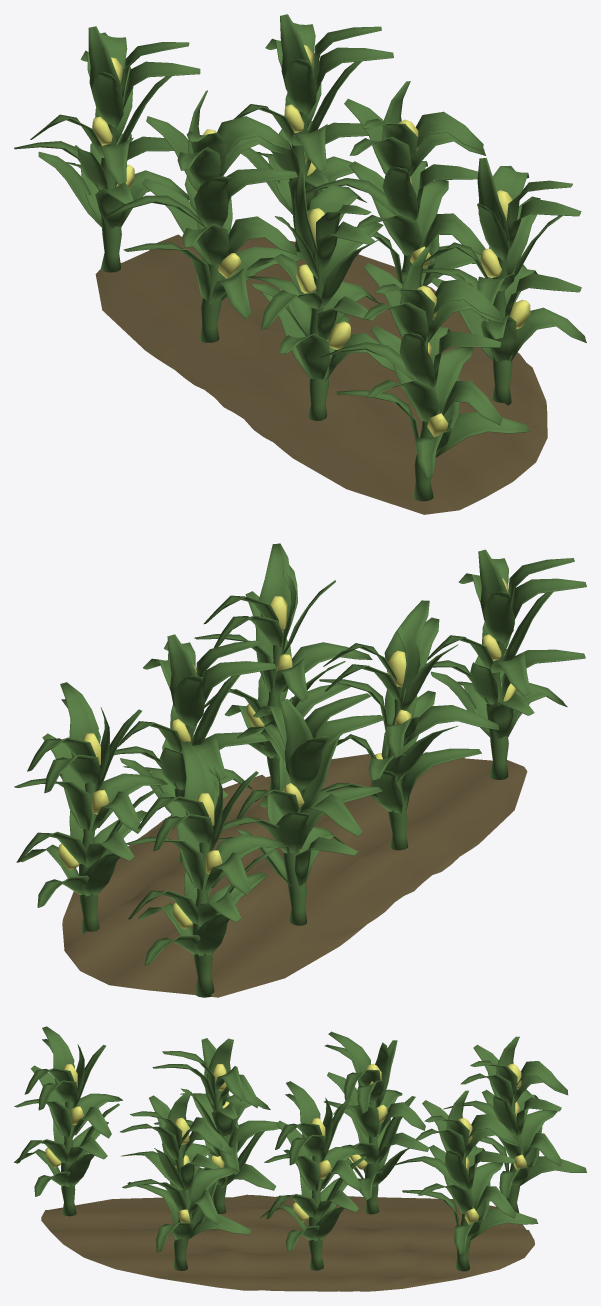
The model's file is Corn!.glb.
3 views of the same model, one above another, from view 1: azimuth 30°, elevation 25°; view 2: azimuth 150°, elevation 25°; view 3: azimuth 270°, elevation 25° (orthographic). The views are drawn at different scales.
Visible parts, largest first — view 1: Plane, Cylinder.003, Cylinder.001, Cylinder.005, Cylinder.002, Cylinder, Cylinder.006, Cylinder.004; view 2: Plane, Cylinder.001, Cylinder.004, Cylinder, Cylinder.003, Cylinder.002, Cylinder.005, Cylinder.006; view 3: Plane, Cylinder.006, Cylinder.004, Cylinder.005, Cylinder.003, Cylinder, Cylinder.001, Cylinder.002.
Part boxes in pixels (x1,y1,x2,y2): Plane: (95, 234, 547, 514); Cylinder.003: (320, 247, 529, 501); Cylinder.001: (104, 90, 303, 342); Cylinder.005: (305, 81, 485, 328); Cylinder.002: (247, 173, 395, 420); Cylinder: (14, 26, 200, 272); Cylinder.006: (422, 157, 586, 405); Cylinder.004: (234, 14, 393, 251); Plane: (62, 752, 527, 997); Cylinder.001: (218, 693, 384, 925); Cylinder.004: (14, 682, 167, 934); Cylinder: (125, 741, 287, 997); Cylinder.003: (426, 549, 586, 779); Cylinder.002: (319, 600, 499, 850); Cylinder.005: (114, 634, 276, 862); Cylinder.006: (194, 543, 372, 795); Plane: (41, 1194, 534, 1291); Cylinder.006: (120, 1091, 250, 1270); Cylinder.004: (391, 1090, 538, 1271); Cylinder.005: (260, 1081, 366, 1270); Cylinder.003: (14, 1026, 122, 1216); Cylinder: (443, 1036, 586, 1212); Cylinder.001: (324, 1031, 428, 1214); Cylinder.002: (152, 1038, 279, 1213).
Size of the model in its own units: 8.75 by 6.31 by 18.7.
